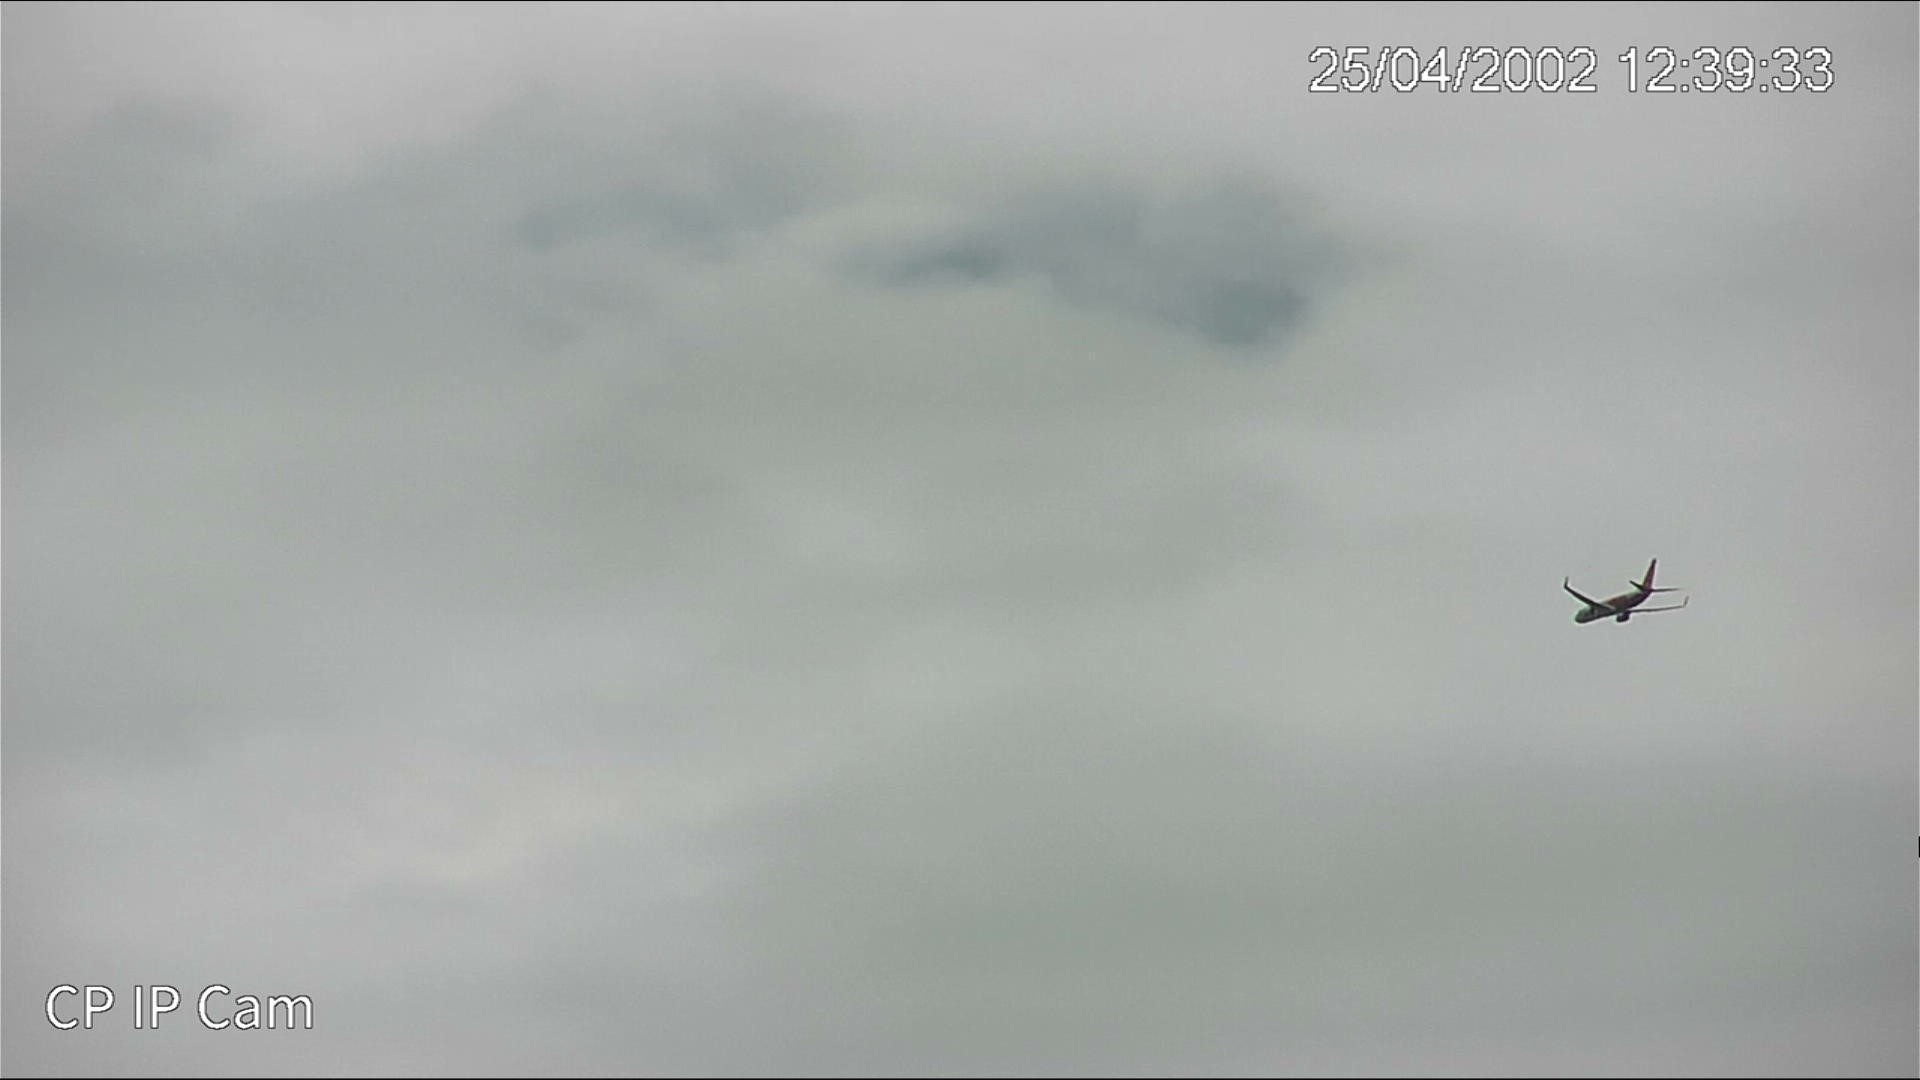SU_30: (1555, 558, 1706, 636)
